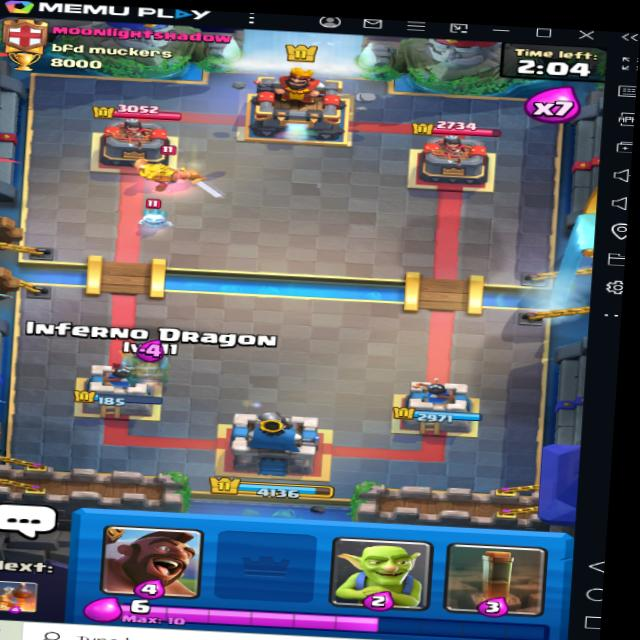golden-knight: (131, 141, 231, 202)
golden-knight-ability: (132, 143, 231, 201)
ice-spirit: (135, 204, 176, 233)
